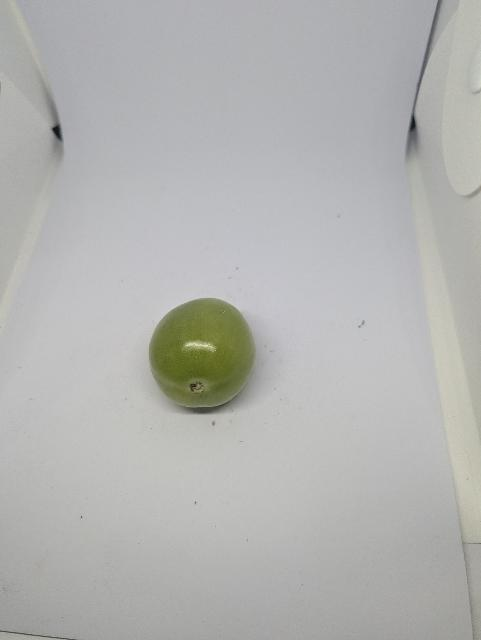green: (136, 288, 265, 424)
